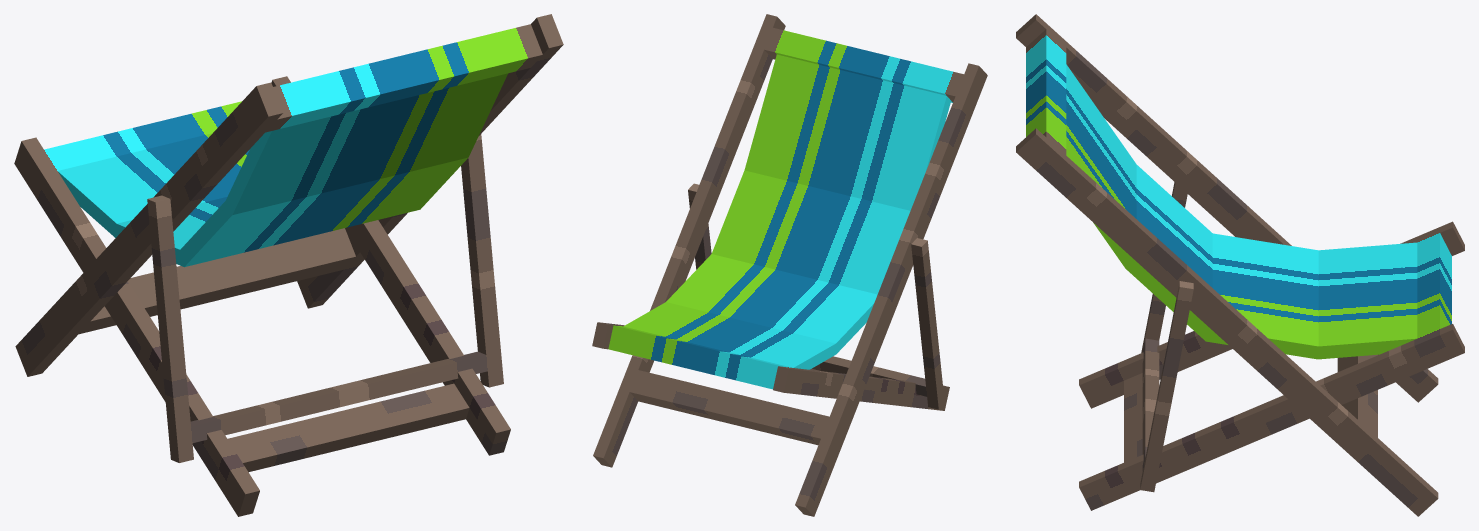
File: 30c14521-ec5e-4121-a682-61953d703fbf.gltf
3 renders of one model, left to right at view 1: azimuth 30°, elevation 25°; view 2: azimuth 150°, elevation 25°; view 3: azimuth 270°, elevation 25°, orthographic. The views are drawn at different scales.
Parts seen in each view (by area): view 1: Frame_Back-Local, Frame_Front-Local, Cloth04-Local, FrameJoints01-Local, Cloth03-Local, Cloth01-Local, Cloth02-Local; view 2: Frame_Back-Local, Cloth04-Local, Cloth03-Local, Cloth02-Local, Frame_Front-Local, Cloth01-Local, FrameJoints01-Local; view 3: Frame_Back-Local, Frame_Front-Local, Cloth01-Local, Cloth02-Local, FrameJoints01-Local, Cloth04-Local, Cloth03-Local.
Boxes of the visible parts, <box> form: Frame_Back-Local: <box>15,14,563,376</box>; Frame_Front-Local: <box>14,76,510,516</box>; Cloth04-Local: <box>226,73,507,214</box>; FrameJoints01-Local: <box>147,134,503,462</box>; Cloth03-Local: <box>178,157,467,266</box>; Cloth01-Local: <box>58,133,249,237</box>; Cloth02-Local: <box>115,196,227,266</box>; Frame_Back-Local: <box>593,14,987,516</box>; Cloth04-Local: <box>744,54,950,210</box>; Cloth03-Local: <box>711,170,910,294</box>; Cloth02-Local: <box>666,254,877,353</box>; Frame_Front-Local: <box>592,322,949,410</box>; Cloth01-Local: <box>623,302,836,369</box>; FrameJoints01-Local: <box>688,183,944,409</box>; Frame_Back-Local: <box>1016,14,1438,516</box>; Frame_Front-Local: <box>1079,221,1464,510</box>; Cloth01-Local: <box>1317,242,1417,359</box>; Cloth02-Local: <box>1206,233,1320,359</box>; FrameJoints01-Local: <box>1140,182,1193,492</box>; Cloth04-Local: <box>1066,64,1136,268</box>; Cloth03-Local: <box>1125,165,1214,341</box>.
Bounding box in the file's own units: 22 × 29.7 × 31.57.
7 materials, 7 textured.
